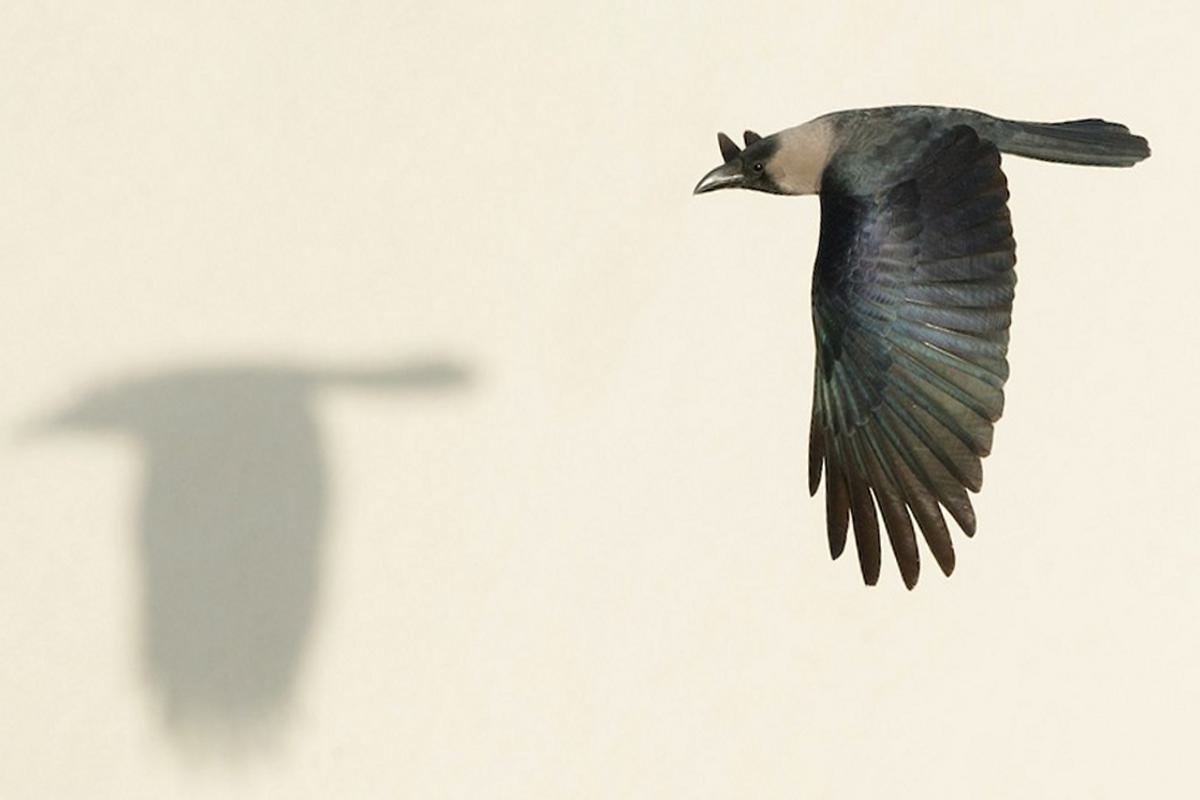crow: (683, 101, 1162, 600)
